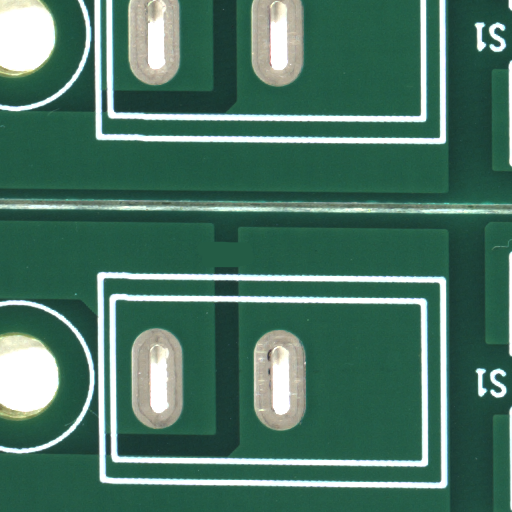Short: (225, 253, 276, 292)
